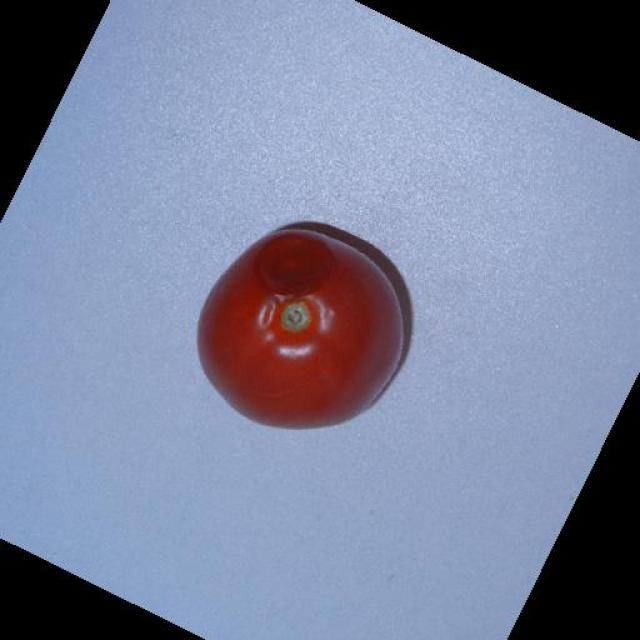Stale_tomato: (204, 195, 410, 436)
